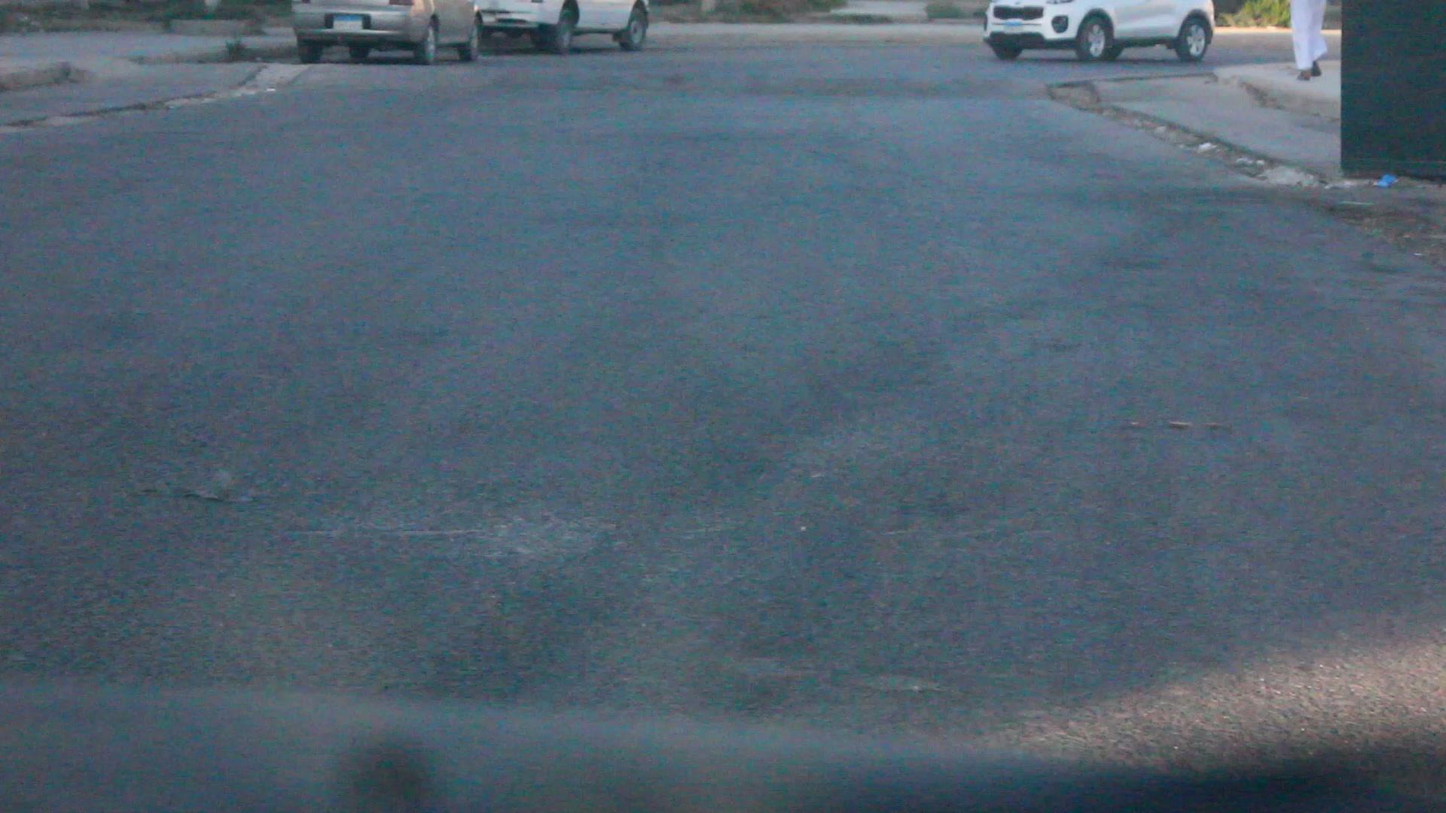Bump: (264, 60, 1054, 96)
